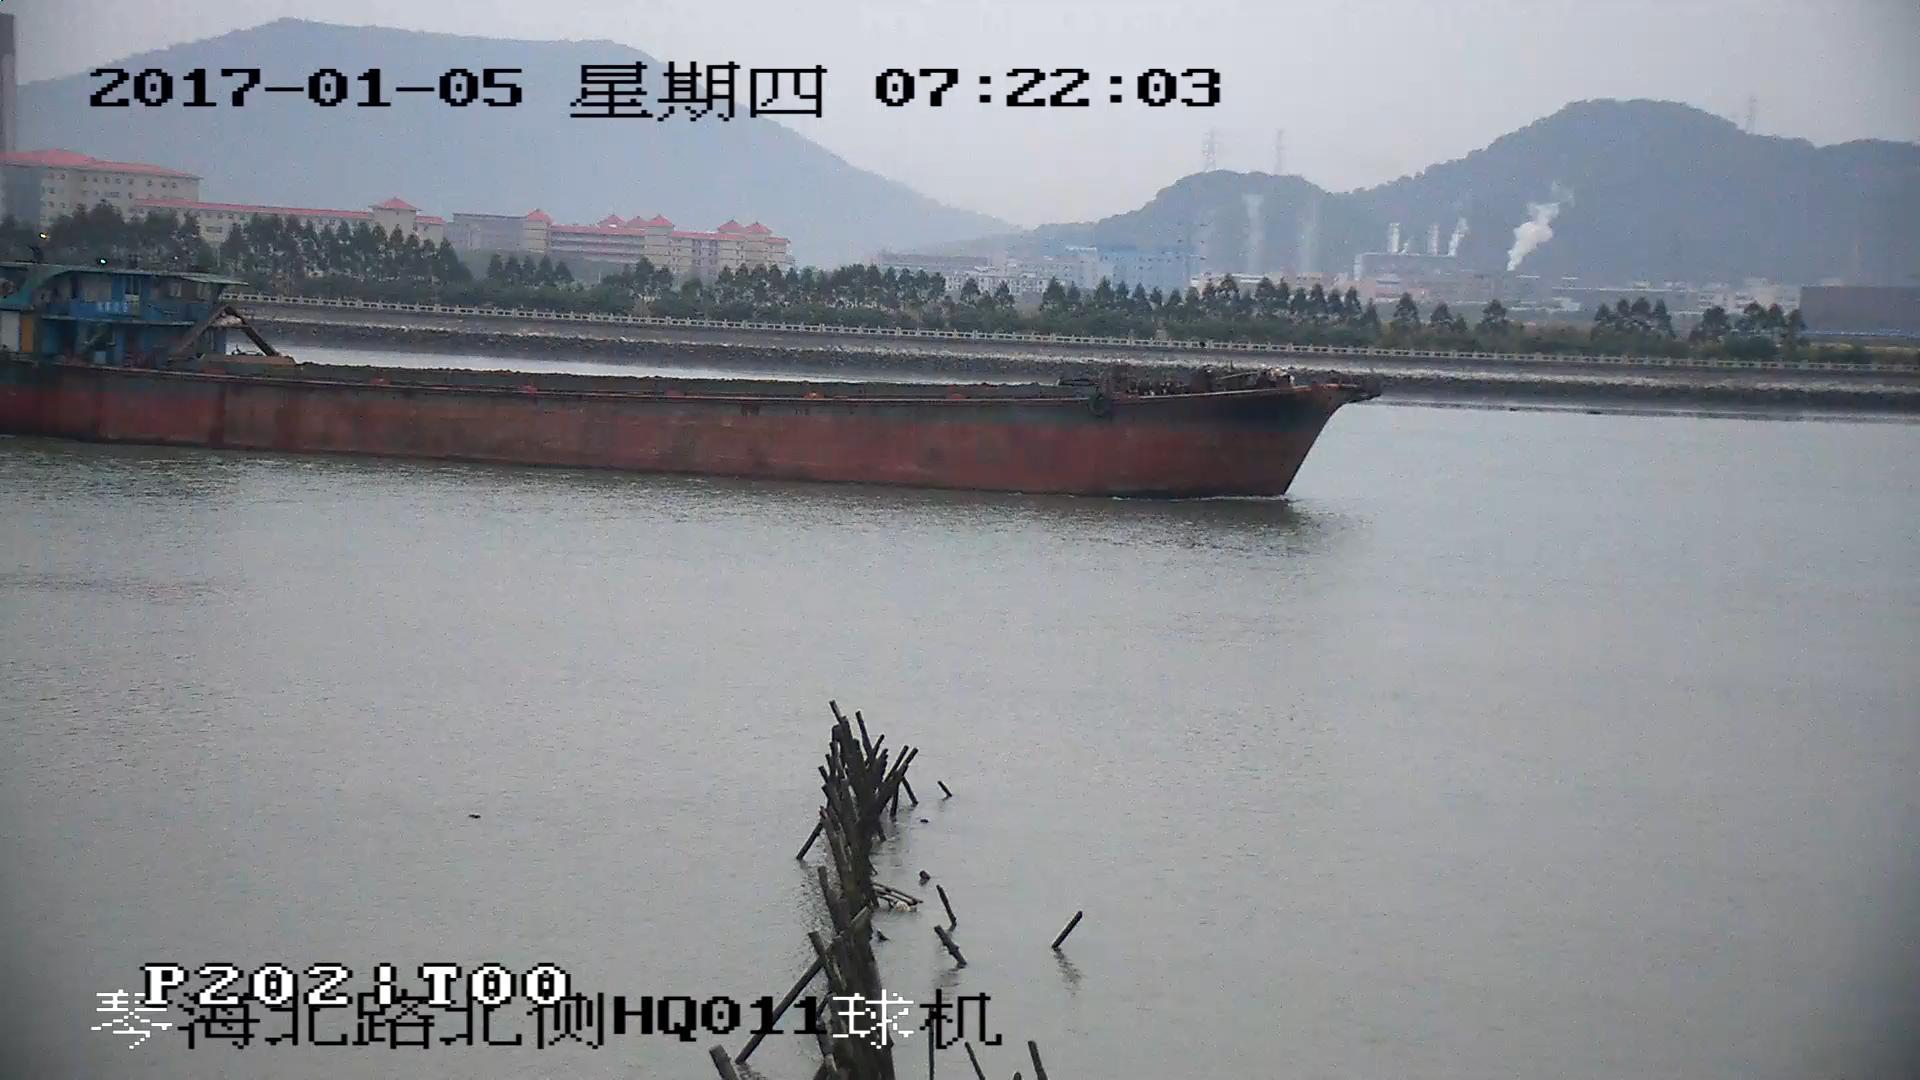Ship: (3, 265, 1373, 498)
